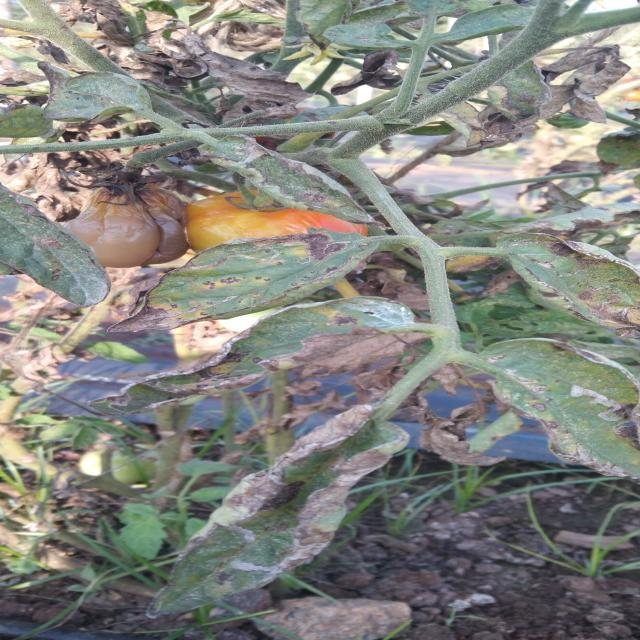Tomato mosaic virus leaf: (97, 228, 369, 334), (493, 232, 640, 337)
